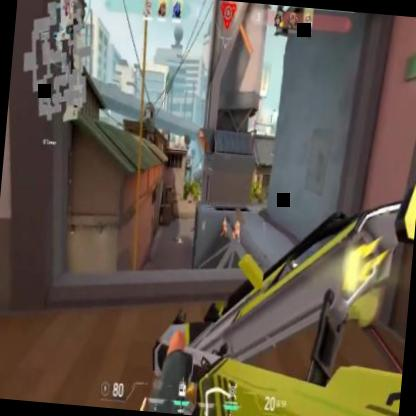enemy: (232, 220, 242, 243), (220, 216, 229, 238)
enemy_head: (236, 220, 239, 223), (225, 217, 226, 221)
